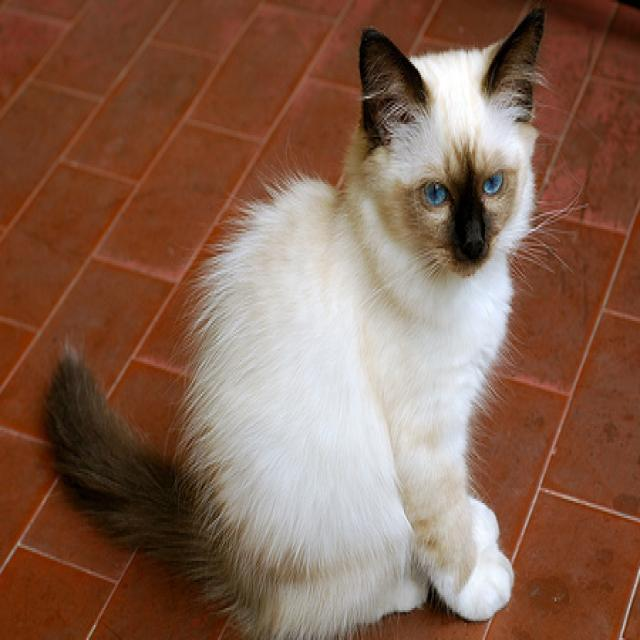Birman: (39, 0, 548, 640)
